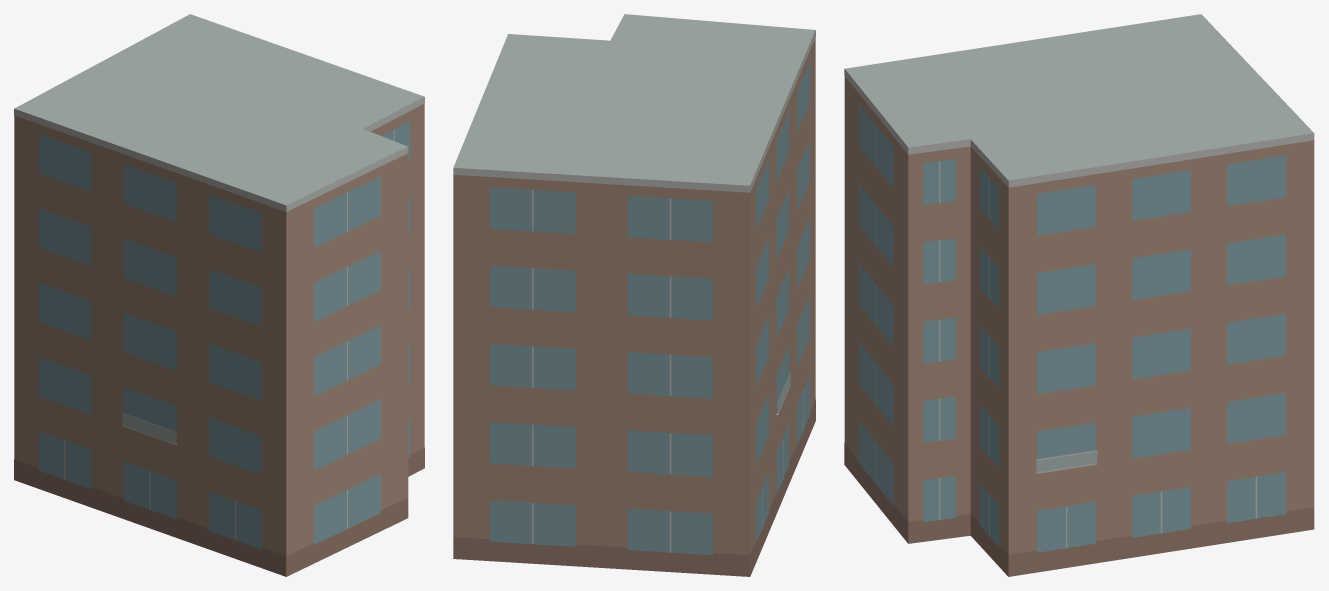
File: survey-upis-32894081.glb
The picture shows the model from 3 angles, left to right: view 1: azimuth 30°, elevation 25°; view 2: azimuth 150°, elevation 25°; view 3: azimuth 270°, elevation 25°; orthographic projection. The views are drawn at different scales.
Parts seen in each view (by area): view 1: survey-upis-32894081.tmp; view 2: survey-upis-32894081.tmp; view 3: survey-upis-32894081.tmp.
Part boxes in pixels (x1,y1,x2,y2): survey-upis-32894081.tmp: (14, 14, 424, 576); survey-upis-32894081.tmp: (453, 14, 815, 576); survey-upis-32894081.tmp: (844, 14, 1314, 576).
Bounding box in the file's own units: 12.37 × 13.7 × 14.73.
